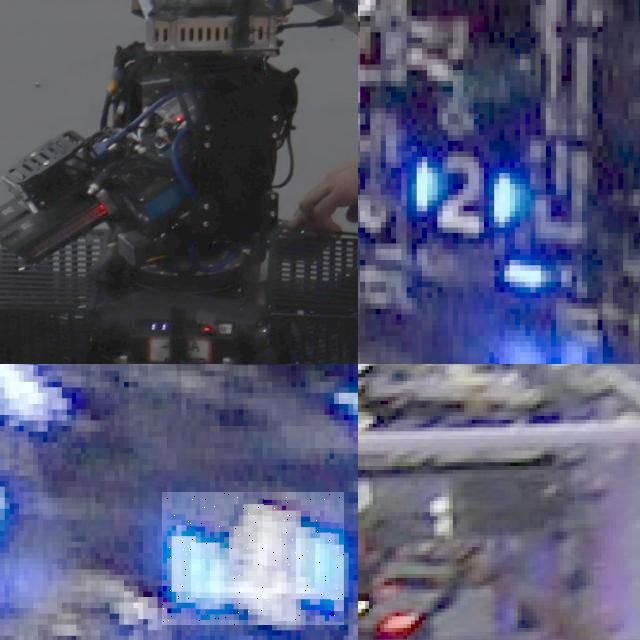B2: (386, 146, 525, 233)
B4: (162, 492, 344, 625)
